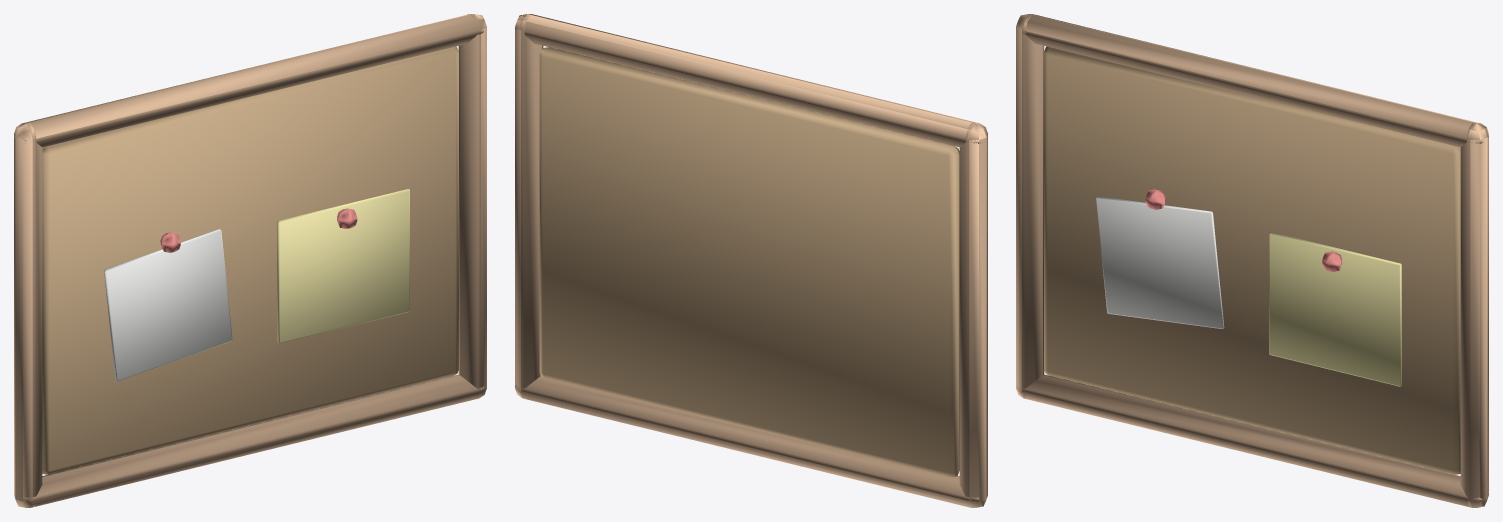
Rendered from board.glb.
3 renders of one model, left to right at view 1: azimuth 30°, elevation 25°; view 2: azimuth 150°, elevation 25°; view 3: azimuth 330°, elevation 25°, orthographic.
Parts seen in each view (by area): view 1: board_cork, board_note2, board_note1, board_frame_top, board_frame_bottom, board_frame_left, board_frame_right; view 2: board_cork, board_frame_top, board_frame_bottom, board_frame_left, board_frame_right; view 3: board_cork, board_note2, board_note1, board_frame_top, board_frame_bottom, board_frame_right, board_frame_left.
Boxes of the visible parts, bbox=[...] form: board_cork: bbox=[42, 46, 458, 474]; board_note2: bbox=[277, 189, 409, 343]; board_note1: bbox=[104, 229, 232, 381]; board_frame_top: bbox=[14, 14, 484, 147]; board_frame_bottom: bbox=[14, 374, 486, 507]; board_frame_left: bbox=[14, 122, 42, 507]; board_frame_right: bbox=[458, 14, 486, 396]; board_cork: bbox=[539, 47, 959, 476]; board_frame_top: bbox=[515, 14, 983, 147]; board_frame_bottom: bbox=[515, 376, 985, 507]; board_frame_left: bbox=[959, 123, 987, 507]; board_frame_right: bbox=[515, 14, 543, 398]; board_cork: bbox=[1044, 46, 1460, 474]; board_note2: bbox=[1269, 232, 1401, 386]; board_note1: bbox=[1096, 196, 1224, 328]; board_frame_top: bbox=[1022, 14, 1488, 147]; board_frame_bottom: bbox=[1017, 374, 1488, 507]; board_frame_right: bbox=[1460, 122, 1488, 507]; board_frame_left: bbox=[1016, 14, 1044, 399].
Size of the model in its own units: 1.79 by 1.4 by 0.126.
